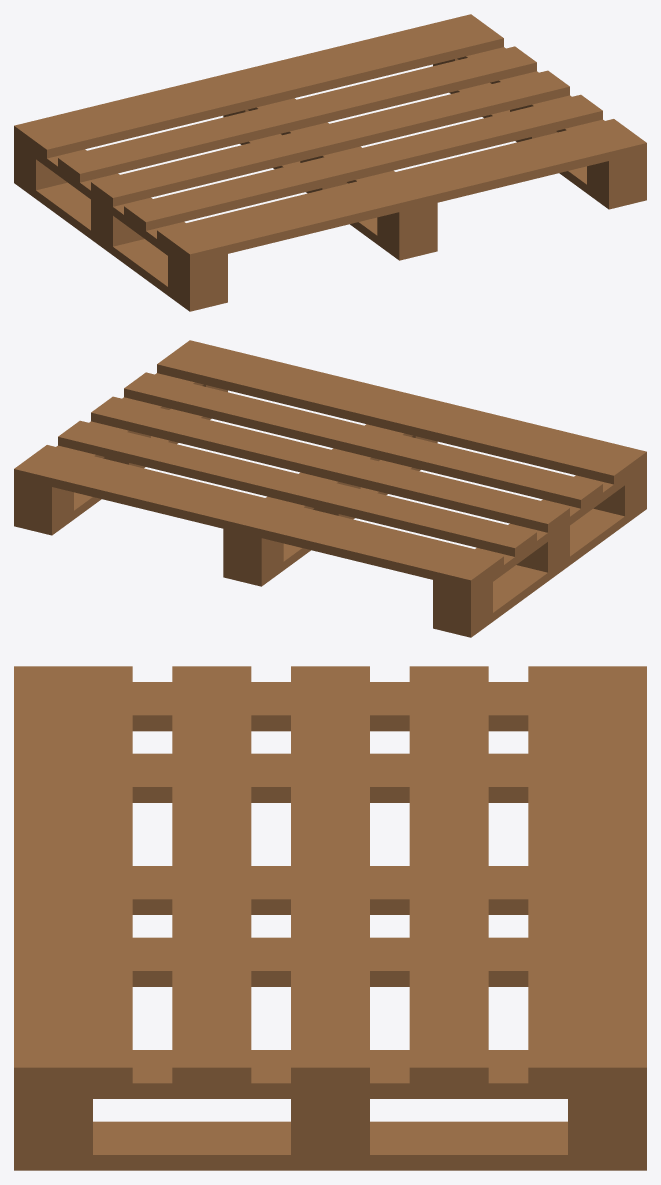
The model's file is Palette.fbx.
3 views of the same model, one above another, from view 1: azimuth 30°, elevation 25°; view 2: azimuth 150°, elevation 25°; view 3: azimuth 270°, elevation 25° (orthographic). The views are drawn at different scales.
Parts seen in each view (by area): view 1: Куб.001; view 2: Куб.001; view 3: Куб.001.
Part boxes in pixels (<box>): Куб.001: <box>14,14,646,311</box>; Куб.001: <box>14,340,646,637</box>; Куб.001: <box>14,666,646,1170</box>.
Size of the model in its own units: 2400 by 288 by 1600.
